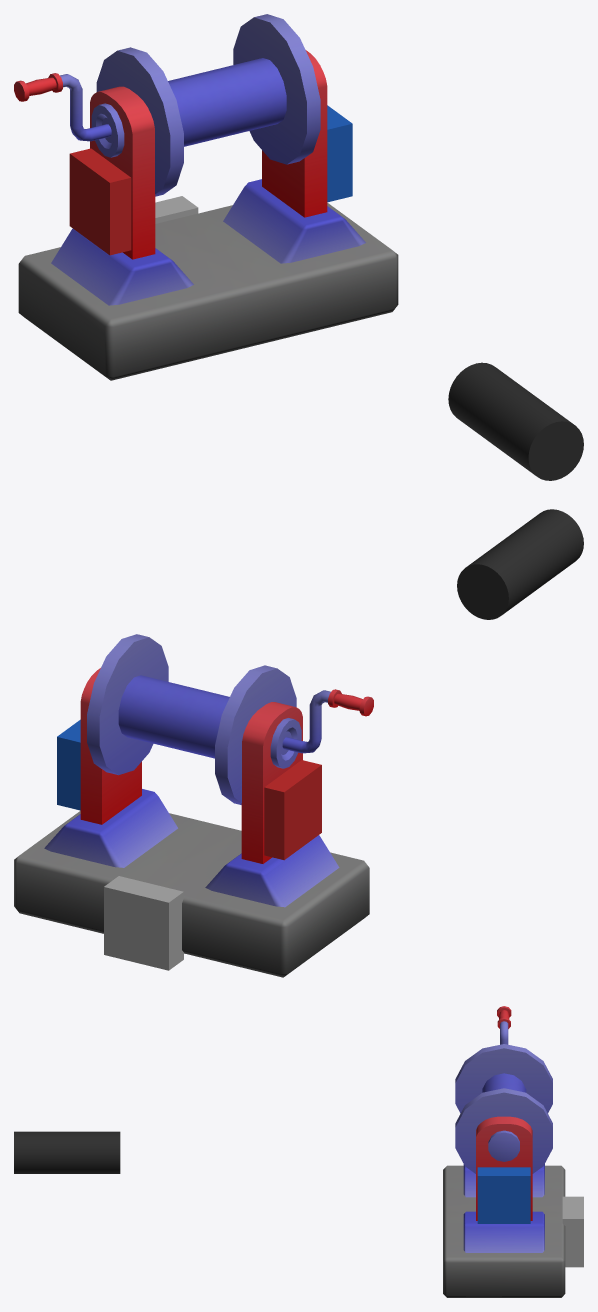
File: Winch.obj
3 renders of one model, top to bottom at view 1: azimuth 30°, elevation 25°; view 2: azimuth 150°, elevation 25°; view 3: azimuth 270°, elevation 25°, orthographic. The views are drawn at different scales.
Parts seen in each view (by area): view 1: Handle, RopeHandle, Decrease, Increase, Clutch; view 2: Handle, RopeHandle, Clutch, Decrease, Increase; view 3: Handle, RopeHandle, Increase, Clutch.
Part boxes in pixels (x1=…): Handle: x1=14, y1=14, x2=398, y2=380; RopeHandle: x1=448, y1=362, x2=583, y2=480; Decrease: x1=69, y1=148, x2=131, y2=255; Increase: x1=327, y1=105, x2=352, y2=202; Clutch: x1=155, y1=196, x2=198, y2=223; Handle: x1=14, y1=634, x2=373, y2=977; RopeHandle: x1=457, y1=509, x2=583, y2=619; Clutch: x1=104, y1=876, x2=183, y2=970; Decrease: x1=264, y1=760, x2=321, y2=860; Increase: x1=57, y1=719, x2=80, y2=810; Handle: x1=443, y1=1006, x2=565, y2=1297; RopeHandle: x1=14, y1=1131, x2=120, y2=1173; Increase: x1=477, y1=1167, x2=530, y2=1223; Clutch: x1=562, y1=1196, x2=583, y2=1267.
Bounding box in the file's own units: 1.21 × 0.98 × 2.68.
5 materials, 1 textured.
